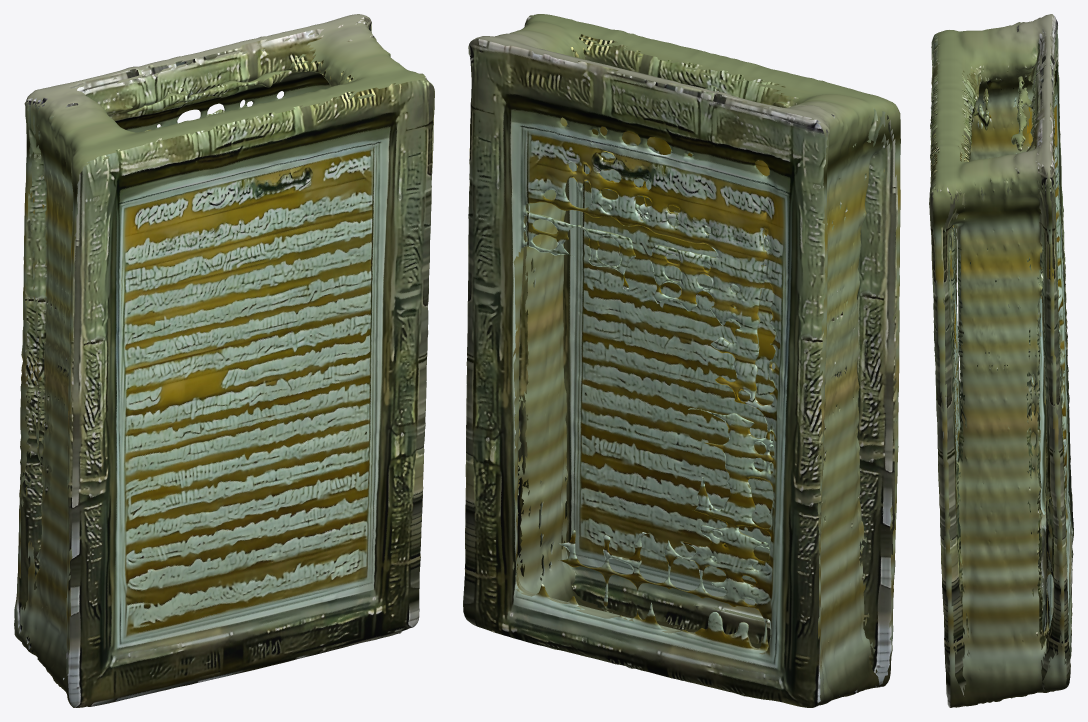
File: kfl-2188.glb
3 renders of one model, left to right at view 1: azimuth 30°, elevation 25°; view 2: azimuth 150°, elevation 25°; view 3: azimuth 270°, elevation 25°, orthographic. The views are drawn at different scales.
Visible parts, largest first — view 1: kfl-2188; view 2: kfl-2188; view 3: kfl-2188.
Part boxes in pixels (x1=…): kfl-2188: x1=14, y1=14, x2=434, y2=707; kfl-2188: x1=463, y1=14, x2=900, y2=707; kfl-2188: x1=929, y1=14, x2=1073, y2=707.
Bounding box in the file's own units: 0.6446 × 0.9979 × 0.2377.
Materials: 4 (4 with a texture image).
